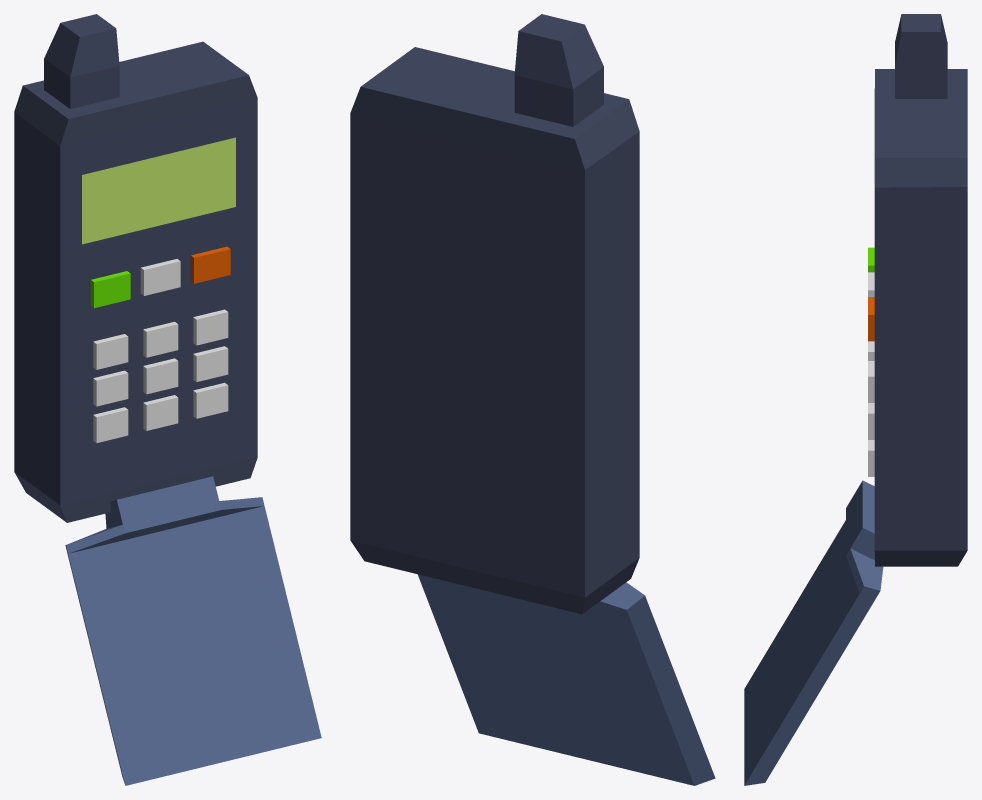
The model's file is phone_3.fbx.
3 views of the same model, side by side, from view 1: azimuth 30°, elevation 25°; view 2: azimuth 150°, elevation 25°; view 3: azimuth 270°, elevation 25° (orthographic). The views are drawn at different scales.
Parts seen in each view (by area): view 1: Cube; view 2: Cube; view 3: Cube.
Boxes of the visible parts, x1,y1,x2,y2 form: Cube: [14, 14, 321, 785]; Cube: [350, 14, 715, 785]; Cube: [744, 14, 967, 785].
Size of the model in its own units: 79.04 by 262 by 76.63.
